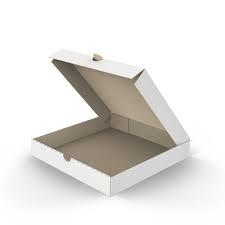Cardboard: (21, 36, 204, 200)
